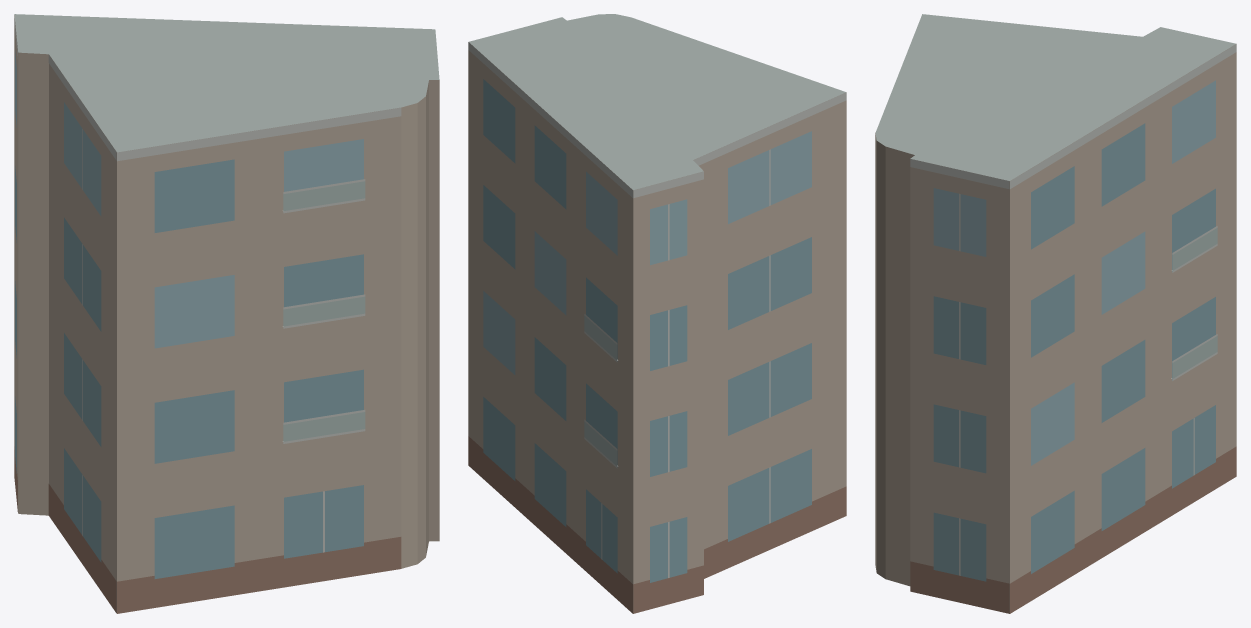
Rendered from survey-upis-32459476.glb.
3 renders of one model, left to right at view 1: azimuth 30°, elevation 25°; view 2: azimuth 150°, elevation 25°; view 3: azimuth 270°, elevation 25°, orthographic. The views are drawn at different scales.
Visible parts, largest first — view 1: survey-upis-32459476.tmp; view 2: survey-upis-32459476.tmp; view 3: survey-upis-32459476.tmp.
Boxes of the visible parts, <box> form: survey-upis-32459476.tmp: <box>14,14,439,613</box>; survey-upis-32459476.tmp: <box>468,14,846,613</box>; survey-upis-32459476.tmp: <box>875,14,1236,613</box>.
Size of the model in its own units: 10.61 by 12.8 by 9.69.
